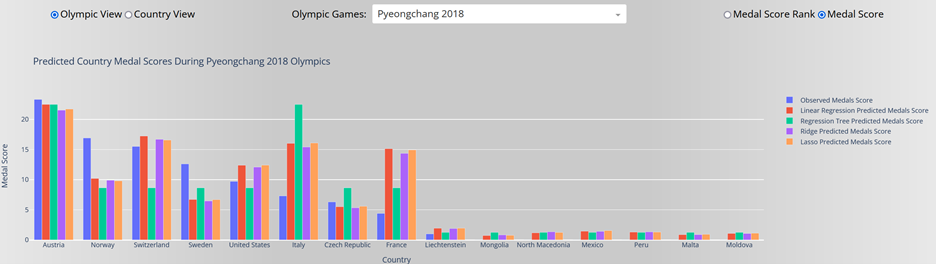

The dashboard page shown, as its layout file describes it:
{"tool":"tableau","page":{"name":"Dashboard 1","canvas":[1000,1000],"units":"permille","ordinal":0},"visuals":[{"type":"worksheet","title":"Sheet 1","mark":"Automatic","box":[2.1,4.2,888.5,991.5]},{"type":"filter","title":"Sheet 1","param":"[federated.146amrn0jlxjl911misc91clc58j].[none:Medal:ok]","box":[890.6,4.2,107.3,47.2]},{"type":"filter","title":"Sheet 1","param":"[federated.146amrn0jlxjl911misc91clc58j].[none:USOC Master Competition Set Name:","box":[890.6,51.4,107.3,150.1]},{"type":"legend","title":"Sheet 1","param":"[federated.146amrn0jlxjl911misc91clc58j].[cnt:Medal:qk]","box":[890.6,201.5,107.3,43]},{"type":"filter","title":"Sheet 1","param":"[federated.146amrn0jlxjl911misc91clc58j].[none:Event Gender:nk]","box":[890.6,244.4,107.3,64.2]},{"type":"filter","title":"Sheet 1","param":"[federated.146amrn0jlxjl911misc91clc58j].[none:Event Name Short:nk]","box":[890.6,308.6,107.3,121.4]}]}

Visuals, with their boxes on the dashboard's canvas, which has no fixed pixel size, in thousandths of its width and height (x1, y1, x2, y2). These are canvas units, not pixel positions in the 936x264 screenshot, which may show the page scaled, cropped or inside an application window:
"Sheet 1" worksheet: region(2, 4, 891, 996)
"Sheet 1" filter: region(891, 4, 998, 51)
"Sheet 1" filter: region(891, 51, 998, 202)
"Sheet 1" legend: region(891, 202, 998, 244)
"Sheet 1" filter: region(891, 244, 998, 309)
"Sheet 1" filter: region(891, 309, 998, 430)
